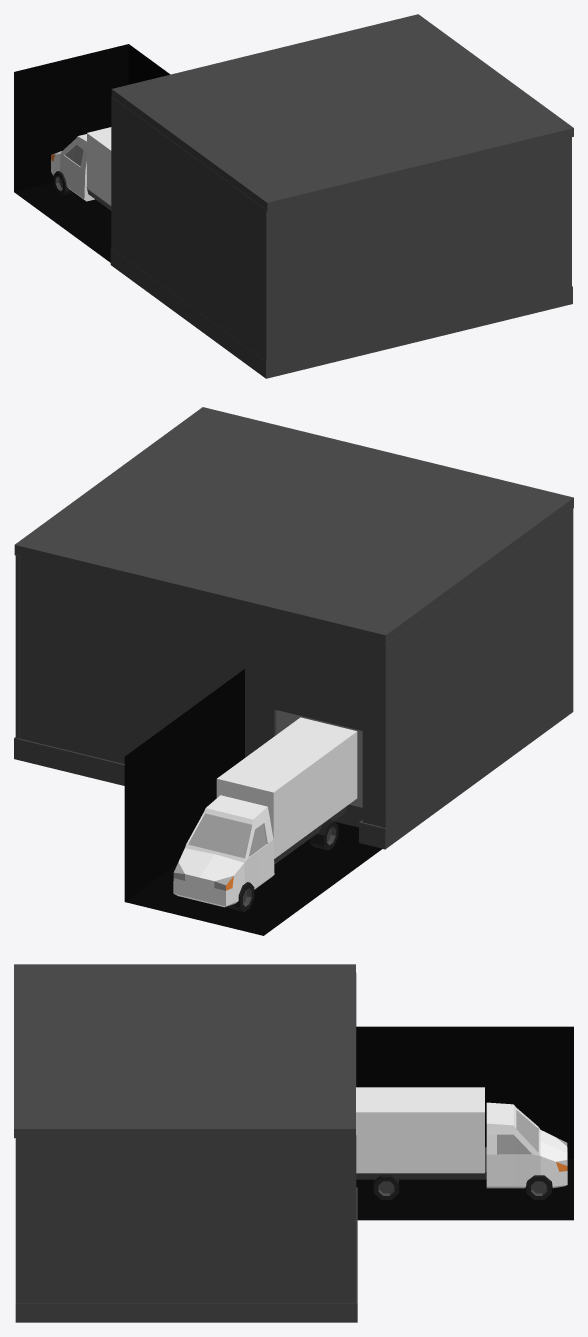
The model's file is W3_Map.fbx.
3 views of the same model, one above another, from view 1: azimuth 30°, elevation 25°; view 2: azimuth 150°, elevation 25°; view 3: azimuth 270°, elevation 25° (orthographic). The views are drawn at different scales.
Parts seen in each view (by area): view 1: TOP, BACK_WALL, LEFT_WALL, DARK_ROOM, BOTTOM, TRUCK; view 2: TOP, FRONT, LEFT_WALL, DARK_ROOM, TRUCK, BOTTOM, RIGHT WALL; view 3: TOP, RIGHT WALL, DARK_ROOM, TRUCK, BOTTOM.
Part boxes in pixels (left/top/right/bottom): TOP: left=111, top=14, right=573, bottom=211; BACK_WALL: left=269, top=138, right=568, bottom=360; LEFT_WALL: left=111, top=96, right=269, bottom=361; DARK_ROOM: left=14, top=44, right=170, bottom=262; BOTTOM: left=110, top=248, right=572, bottom=378; TRUCK: left=51, top=127, right=111, bottom=210; TOP: left=14, top=407, right=573, bottom=644; FRONT: left=19, top=556, right=381, bottom=826; LEFT_WALL: left=382, top=508, right=573, bottom=827; DARK_ROOM: left=124, top=669, right=382, bottom=935; TRUCK: left=173, top=717, right=357, bottom=911; BOTTOM: left=14, top=691, right=573, bottom=849; RIGHT WALL: left=15, top=554, right=19, bottom=738; TOP: left=14, top=964, right=355, bottom=1138; RIGHT WALL: left=16, top=1135, right=356, bottom=1303; DARK_ROOM: left=356, top=1026, right=573, bottom=1220; TRUCK: left=356, top=1087, right=567, bottom=1199; BOTTOM: left=15, top=1139, right=357, bottom=1322.
Size of the model in its own units: 2139 by 3075 by 1175.
5 materials, 5 textured.
